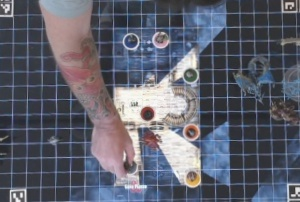blue: (121, 31, 142, 51)
green: (181, 66, 197, 84)
orange: (180, 122, 200, 142)
pink: (149, 30, 170, 48)
red: (140, 103, 159, 123)
violet: (115, 158, 138, 176)
yellow: (182, 167, 201, 188)
